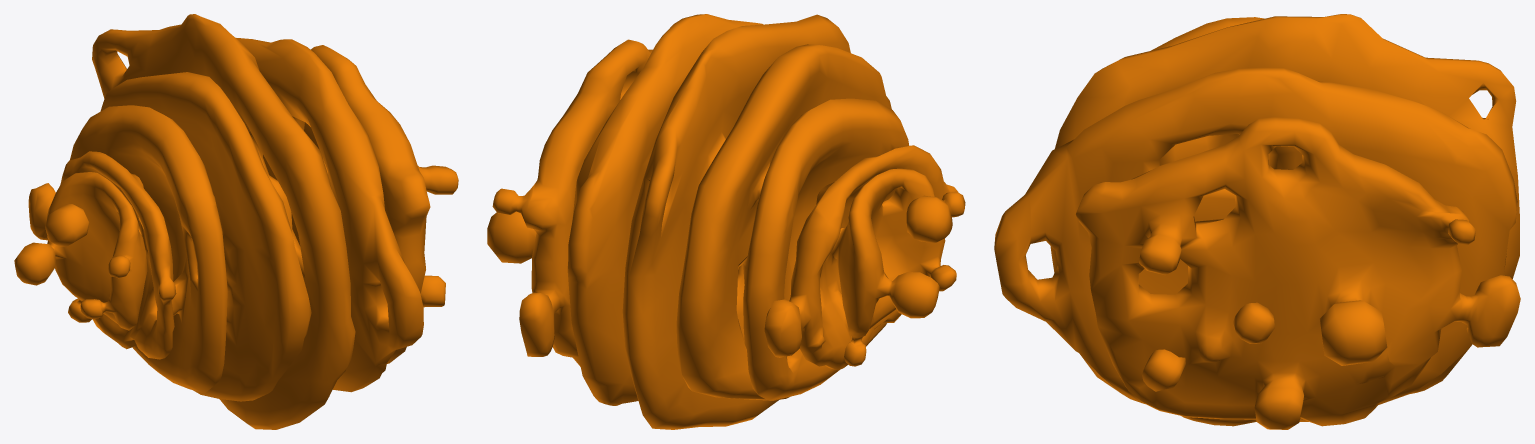
The model's file is golgi.glb.
3 renders of one model, left to right at view 1: azimuth 30°, elevation 25°; view 2: azimuth 150°, elevation 25°; view 3: azimuth 270°, elevation 25°, orthographic. The views are drawn at different scales.
Visible parts, largest first — view 1: golgi; view 2: golgi; view 3: golgi.
Boxes of the visible parts, box(x1,y1,x2,y2) form: golgi: box(14, 14, 458, 429); golgi: box(487, 14, 965, 429); golgi: box(994, 14, 1520, 429).
Size of the model in its own units: 2.01 by 1.81 by 2.12.
